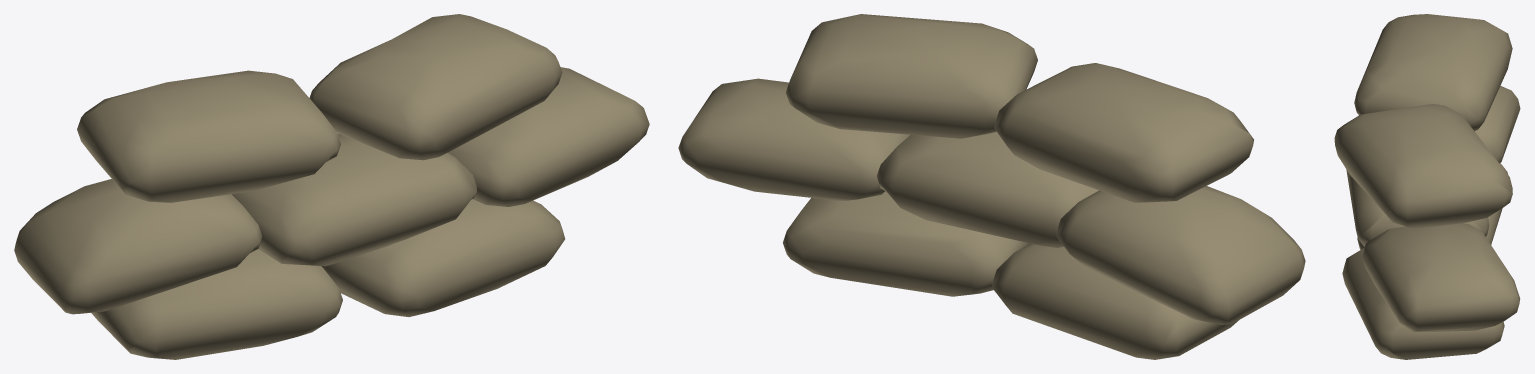
The model's file is sack_trench_small.glb.
3 views of the same model, side by side, from view 1: azimuth 30°, elevation 25°; view 2: azimuth 150°, elevation 25°; view 3: azimuth 270°, elevation 25° (orthographic). The views are drawn at different scales.
Visible parts, largest first — view 1: SackTrench_Small; view 2: SackTrench_Small; view 3: SackTrench_Small.
Boxes of the visible parts, bbox=[...] form: SackTrench_Small: bbox=[14, 14, 649, 359]; SackTrench_Small: bbox=[678, 14, 1305, 359]; SackTrench_Small: bbox=[1334, 14, 1520, 359].
Bounding box in the file's own units: 2.32 × 0.928 × 0.7471.
